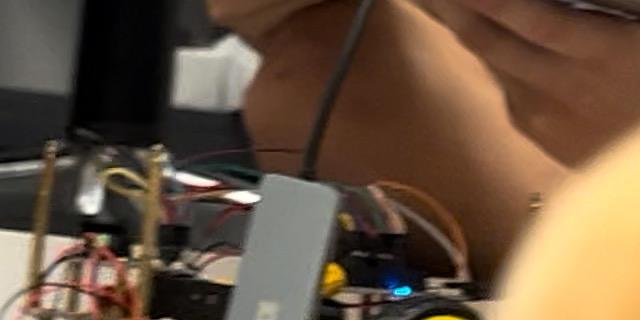burger: (392, 15, 640, 320)
